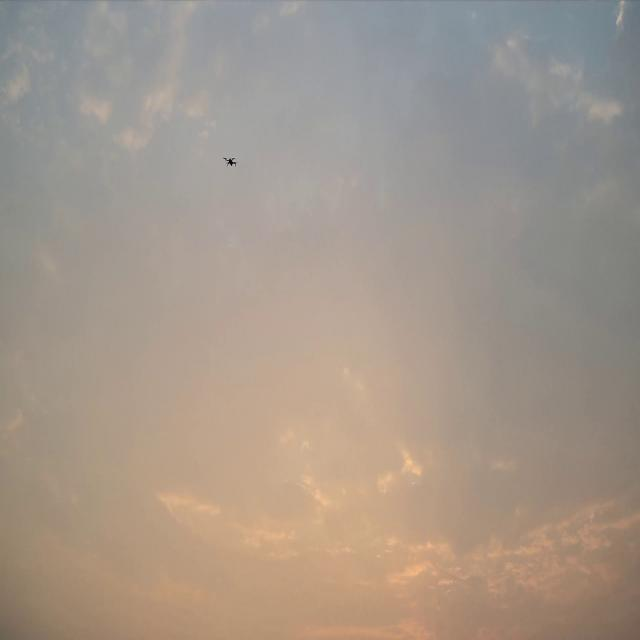UAV: (222, 156, 238, 166)
